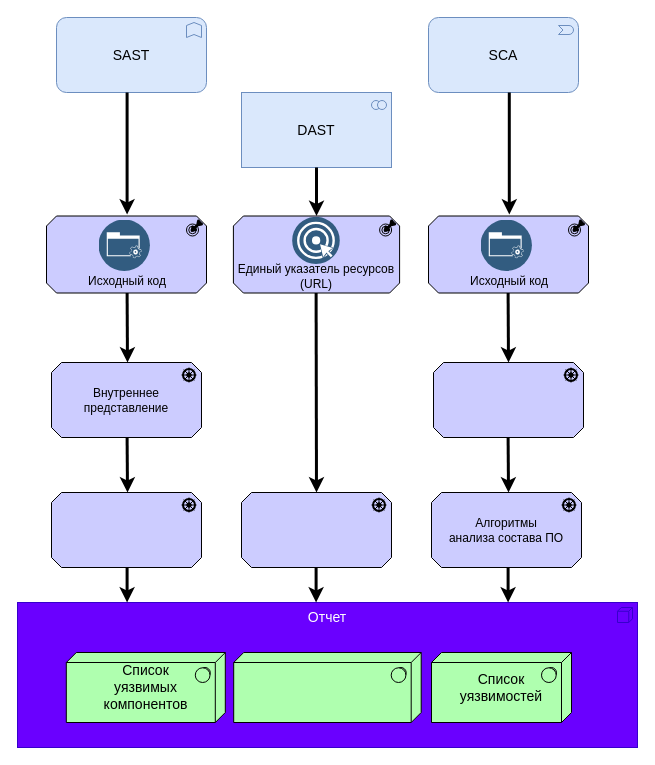
The diagram is 655 pixels wide and 765 high, and some of its shapes have lost their labels. Each missing label, with the centre of its shape:
SBOM: [508,400]
Алгоритмы динамического анализа: [316,530]
Алгоритмы статического анализа: [126,530]
Рекомендации по корректировке кода: [327,687]
